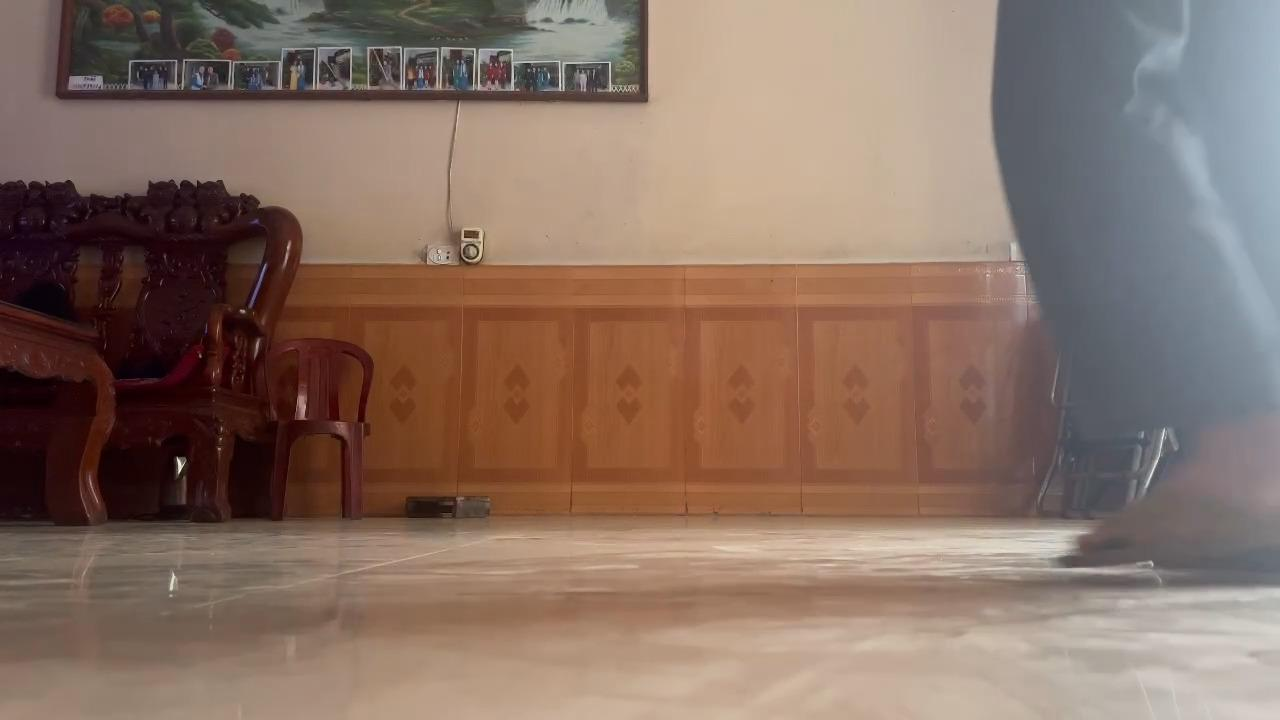no-boot: (1050, 479, 1280, 582)
